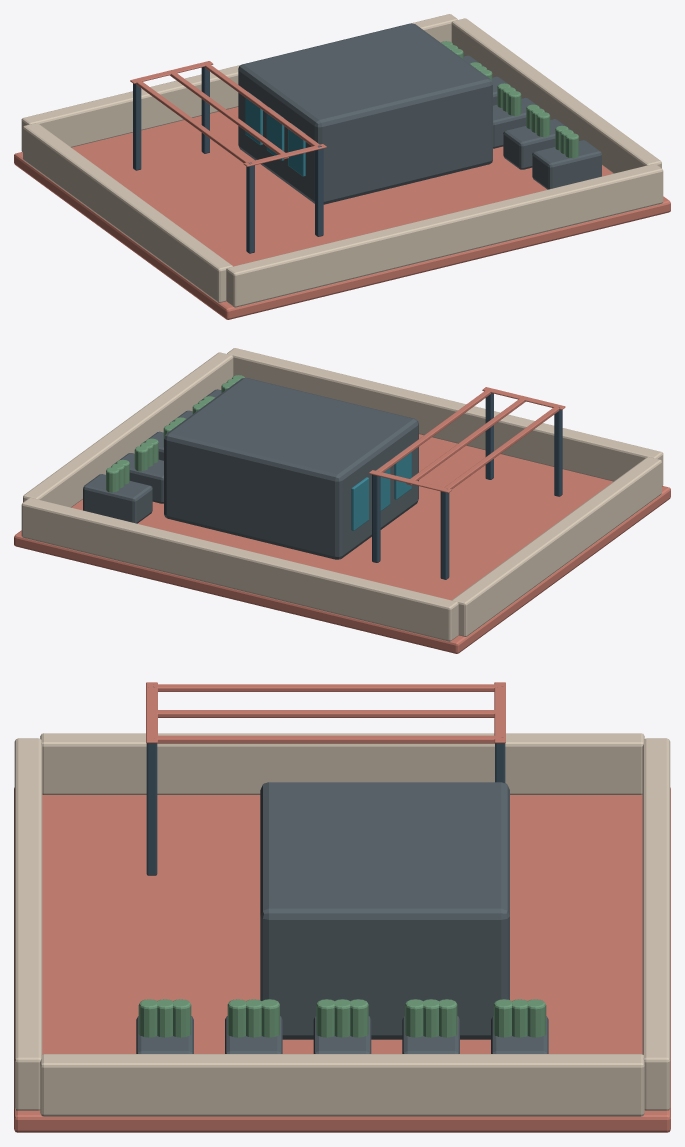
File: SM_SolCity_BuildingCrown_01.fbx
3 views of the same model, one above another, from view 1: azimuth 30°, elevation 25°; view 2: azimuth 150°, elevation 25°; view 3: azimuth 270°, elevation 25° (orthographic). The views are drawn at different scales.
Visible parts, largest first — view 1: Crown_Roof_Slab, Crown_Mechanical_House, Crown_Parapet_Front, Crown_Parapet_Left, Crown_Parapet_Back, Crown_Parapet_Right, Crown_Planter_0, Crown_Planter_1, Crown_Pergola_Cross_-3.22, Crown_Planter_2, Crown_Pergola_Cross_-2.30, Crown_Pergola_Cross_-4.15 (+7 smaller); view 2: Crown_Mechanical_House, Crown_Roof_Slab, Crown_Parapet_Back, Crown_Parapet_Front, Crown_Parapet_Left, Crown_Parapet_Right, Crown_Planter_4, Crown_Planter_3, Crown_Pergola_Cross_-4.15, Crown_Pergola_Cross_-3.22, Crown_Pergola_Cross_-2.30, Crown_Pergola_Post_-4.15_+2.40 (+5 smaller); view 3: Crown_Roof_Slab, Crown_Mechanical_House, Crown_Parapet_Right, Crown_Parapet_Left, Crown_Parapet_Back, Crown_Parapet_Front, Crown_Pergola_Cross_-2.30, Crown_Pergola_Cross_-4.15, Crown_Pergola_Cross_-3.22, Crown_Pergola_Post_-2.30_-2.90, Crown_Planter_2, Crown_Planter_1 (+15 smaller).
Part boxes in pixels (<box>): Crown_Roof_Slab: <box>14,107,670,319</box>; Crown_Mechanical_House: <box>238,23,492,204</box>; Crown_Parapet_Front: <box>226,164,663,307</box>; Crown_Parapet_Left: <box>23,123,232,302</box>; Crown_Parapet_Back: <box>21,14,457,152</box>; Crown_Parapet_Right: <box>451,18,661,173</box>; Crown_Planter_0: <box>532,140,601,189</box>; Crown_Planter_1: <box>503,119,570,169</box>; Crown_Pergola_Cross_-3.22: <box>169,70,288,159</box>; Crown_Planter_2: <box>493,97,541,148</box>; Crown_Pergola_Cross_-2.30: <box>203,62,320,147</box>; Crown_Pergola_Cross_-4.15: <box>135,79,253,163</box>; Crown_Mechanical_House: <box>164,378,418,559</box>; Crown_Roof_Slab: <box>14,434,670,653</box>; Crown_Parapet_Back: <box>21,498,458,641</box>; Crown_Parapet_Front: <box>227,348,663,486</box>; Crown_Parapet_Left: <box>452,457,661,636</box>; Crown_Parapet_Right: <box>23,352,233,507</box>; Crown_Planter_4: <box>83,474,152,523</box>; Crown_Planter_3: <box>114,453,163,503</box>; Crown_Pergola_Cross_-4.15: <box>442,405,560,490</box>; Crown_Pergola_Cross_-3.22: <box>406,398,525,485</box>; Crown_Pergola_Cross_-2.30: <box>375,389,491,472</box>; Crown_Pergola_Post_-4.15_+2.40: <box>440,491,449,579</box>; Crown_Roof_Slab: <box>14,787,670,1132</box>; Crown_Mechanical_House: <box>260,782,509,1039</box>; Crown_Parapet_Right: <box>40,1054,644,1116</box>; Crown_Parapet_Left: <box>40,733,644,794</box>; Crown_Parapet_Back: <box>642,738,670,1110</box>; Crown_Parapet_Front: <box>14,738,42,1110</box>; Crown_Pergola_Cross_-2.30: <box>148,735,503,743</box>; Crown_Pergola_Cross_-4.15: <box>149,684,503,691</box>; Crown_Pergola_Cross_-3.22: <box>148,710,502,717</box>; Crown_Pergola_Post_-2.30_-2.90: <box>146,743,157,875</box>; Crown_Planter_2: <box>313,1016,371,1053</box>; Crown_Planter_1: <box>225,1016,282,1053</box>.
Bounding box in the file's own units: 12 × 10 × 2.8.
